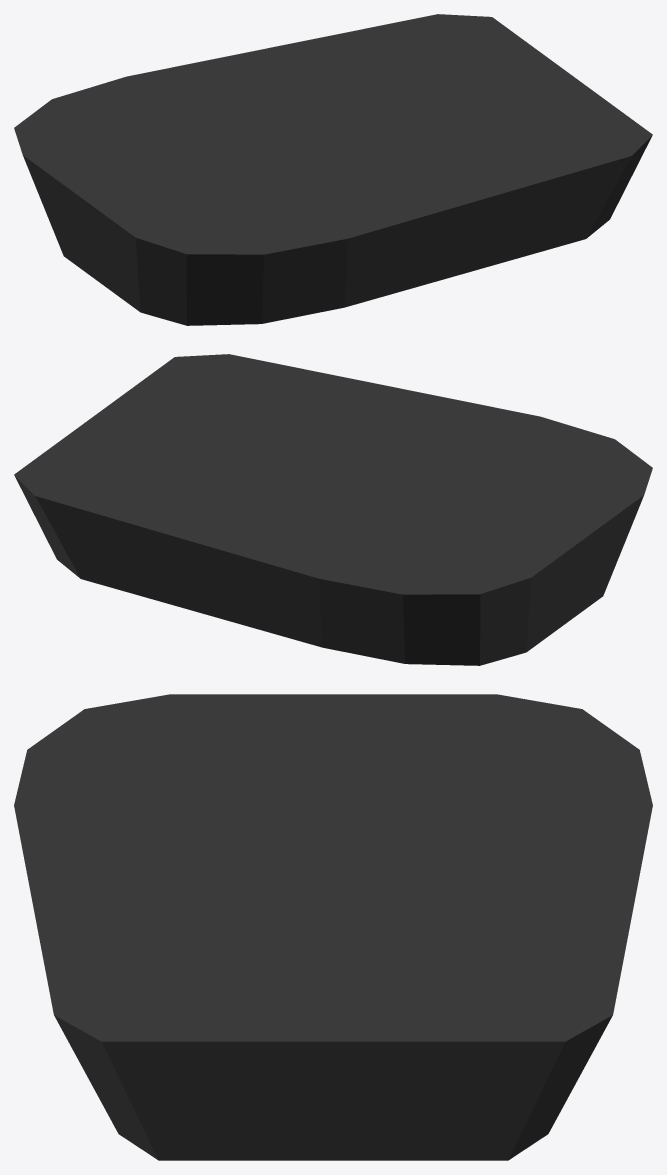
The model's file is exercise-bike-pedal-b.glb.
3 renders of one model, top to bottom at view 1: azimuth 30°, elevation 25°; view 2: azimuth 150°, elevation 25°; view 3: azimuth 270°, elevation 25°, orthographic. The views are drawn at different scales.
Parts seen in each view (by area): view 1: Exercise_Bike_Pedal_B; view 2: Exercise_Bike_Pedal_B; view 3: Exercise_Bike_Pedal_B.
Boxes of the visible parts, <box> form: Exercise_Bike_Pedal_B: <box>14,14,652,325</box>; Exercise_Bike_Pedal_B: <box>14,354,652,665</box>; Exercise_Bike_Pedal_B: <box>14,694,652,1160</box>.
Bounding box in the file's own units: 12.6 × 2.29 × 9.8.
1 material, 1 textured.
